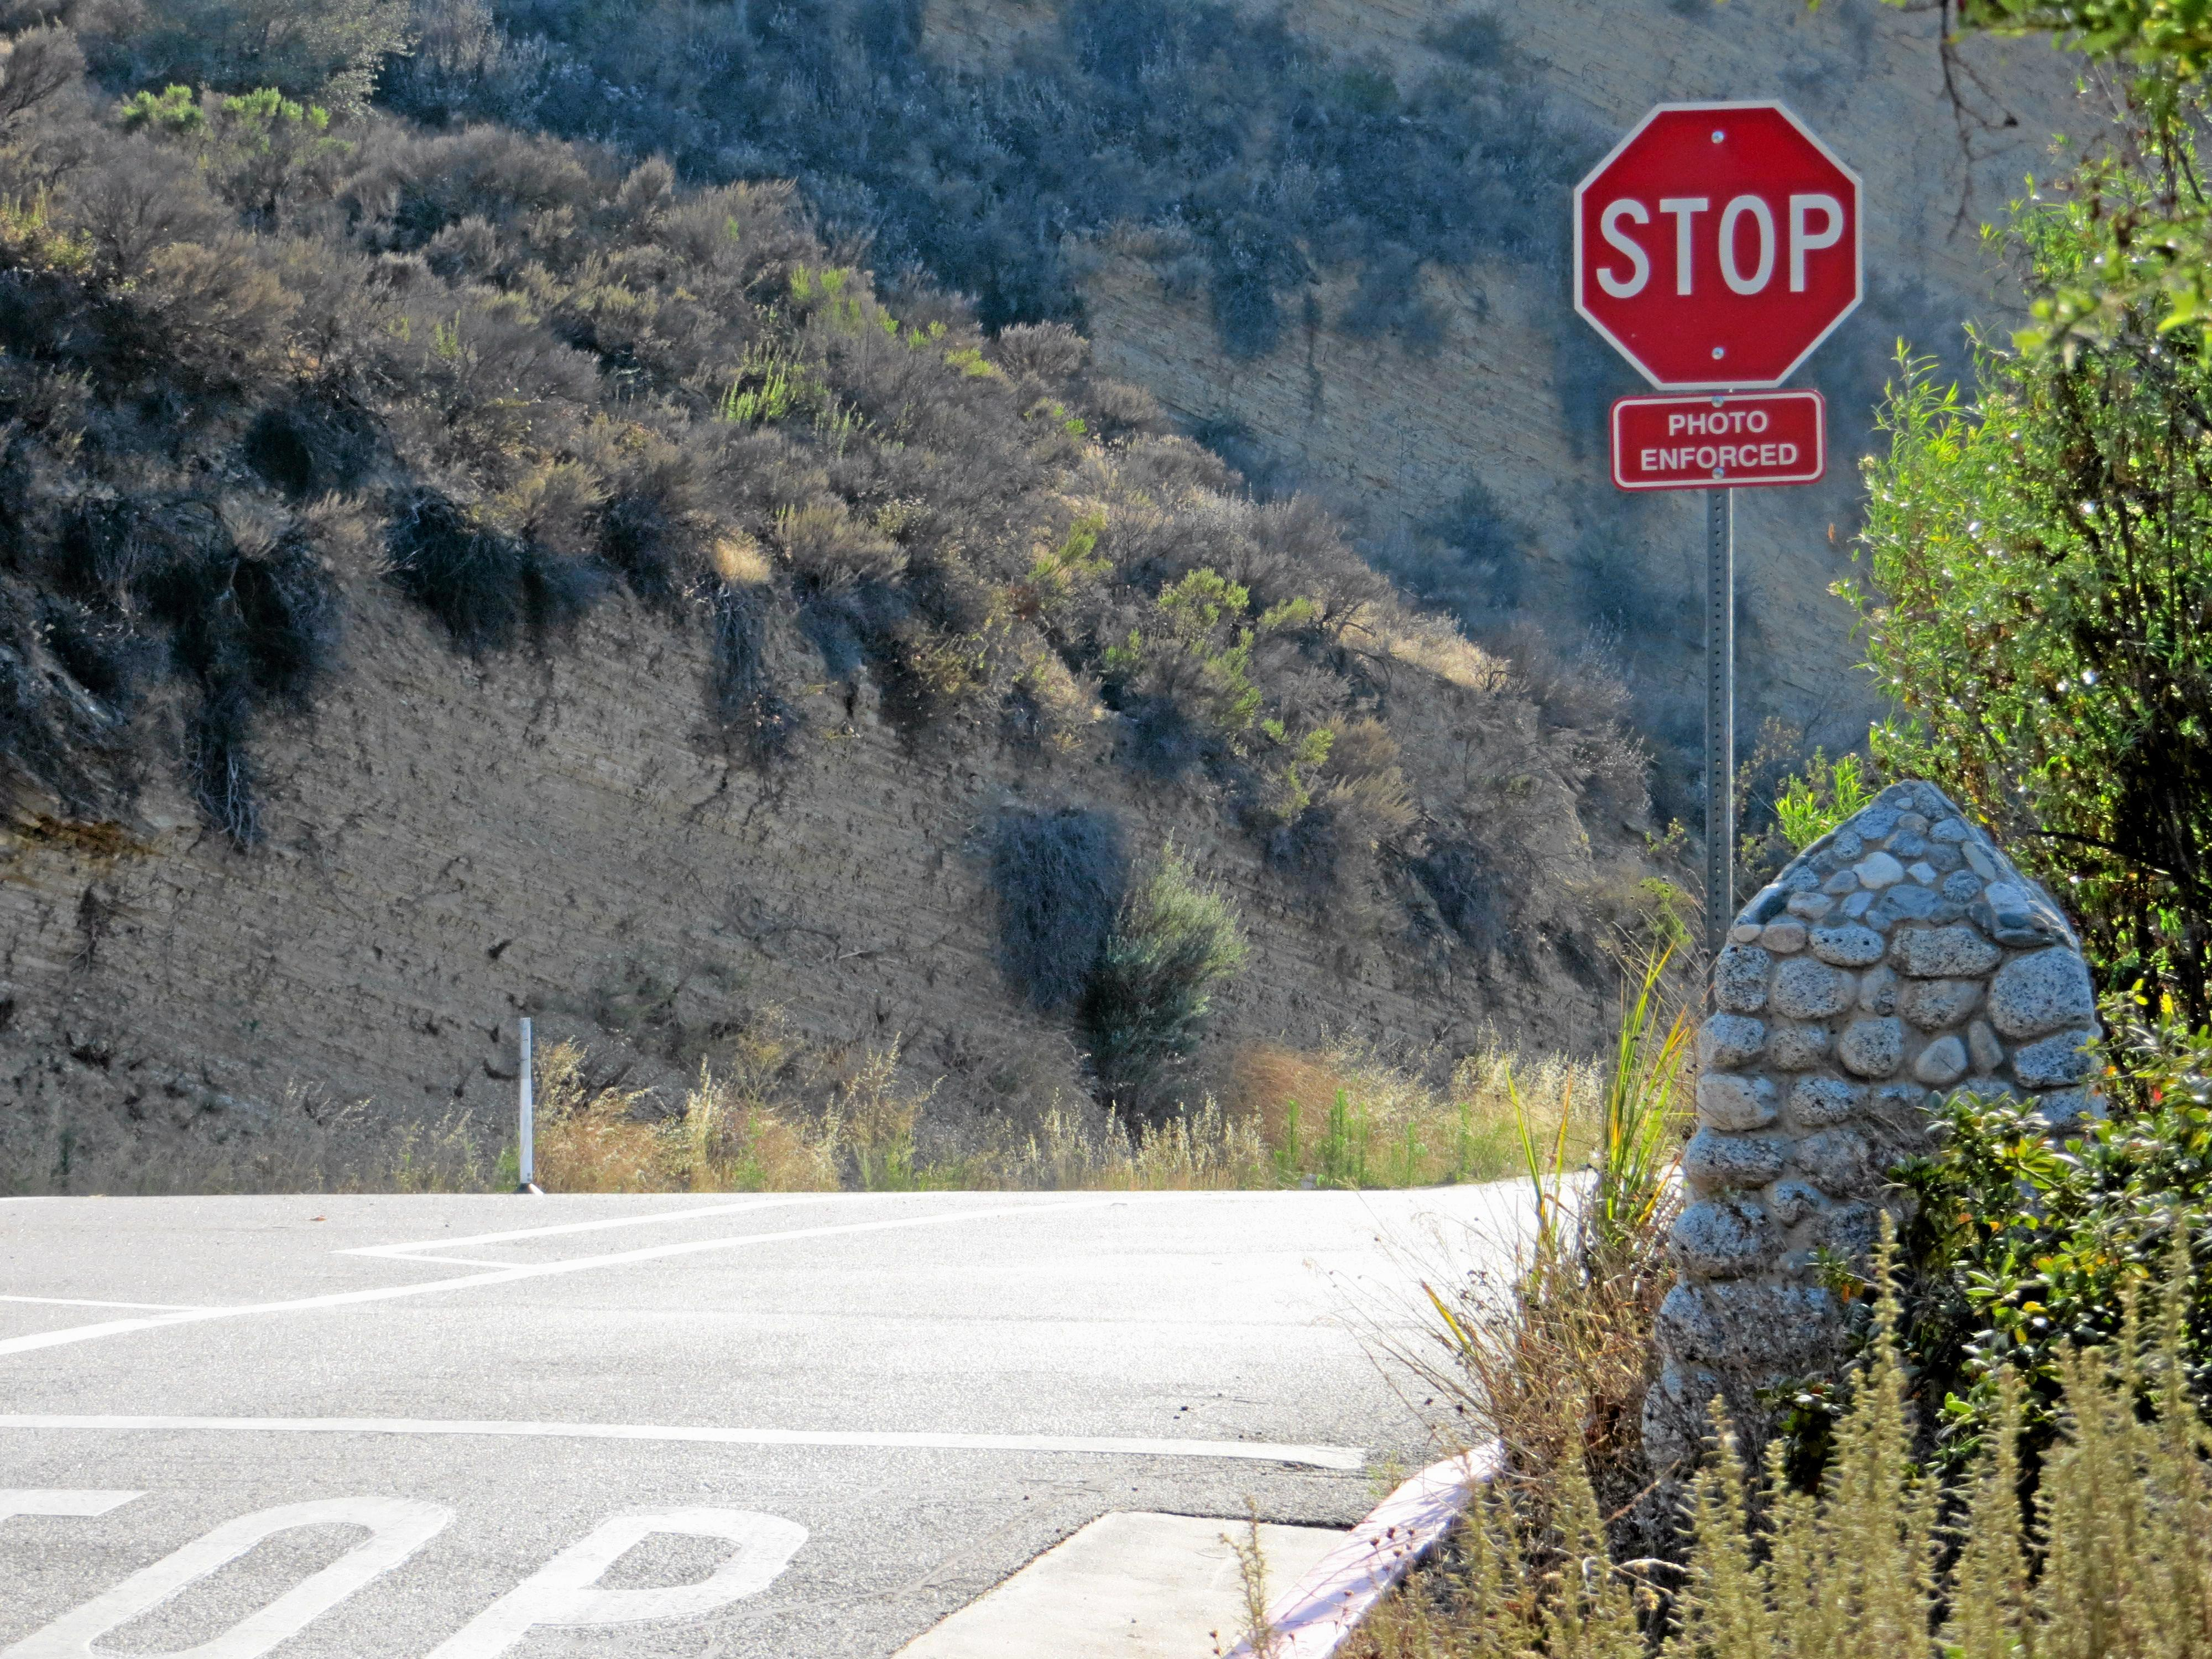Pole: (1702, 486, 1740, 908)
Sign: (1569, 108, 1865, 392)
